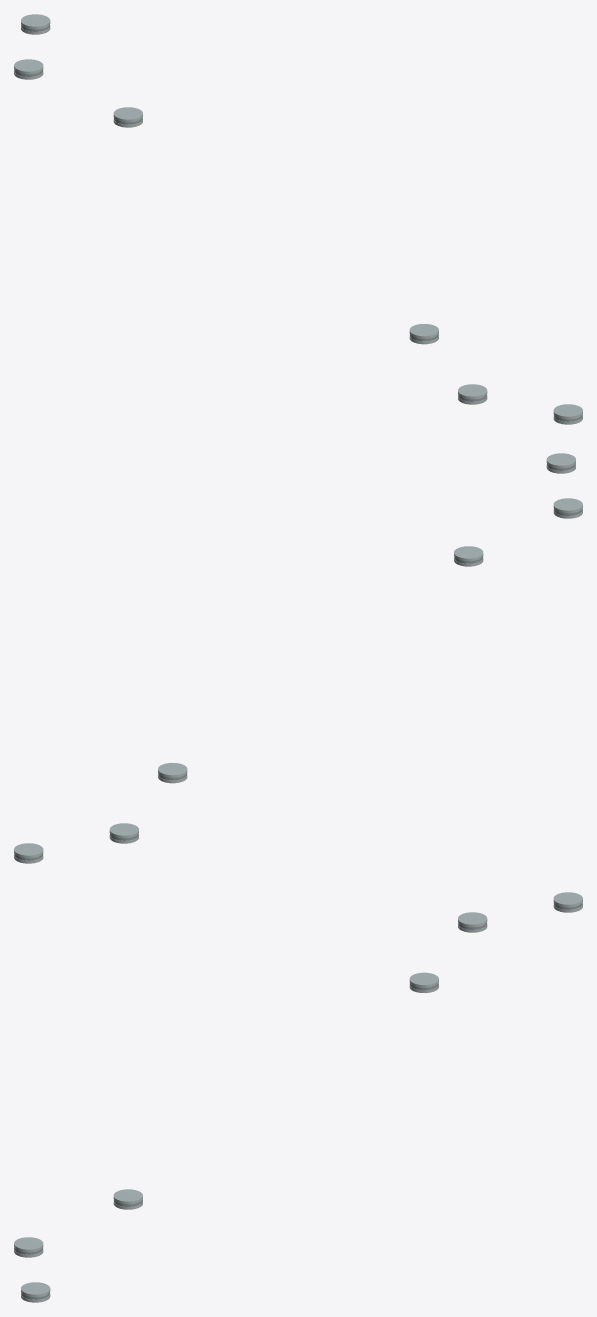
The model's file is Golf Club Podiums.glb.
The picture shows the model from 3 angles, top to bottom: view 1: azimuth 30°, elevation 25°; view 2: azimuth 150°, elevation 25°; view 3: azimuth 330°, elevation 25°; orthographic projection.
Parts seen in each view (by area): view 1: Golf Club Podiums.003; view 2: Golf Club Podiums.003; view 3: Golf Club Podiums.003.
Boxes of the visible parts, x1,y1,x2,y2 form: Golf Club Podiums.003: [14, 14, 582, 424]; Golf Club Podiums.003: [14, 453, 582, 863]; Golf Club Podiums.003: [14, 892, 582, 1302].
Size of what is drawn, in the model's own units: 4.5 by 0.45 by 55.5.
Materials: 1 (1 with a texture image).
